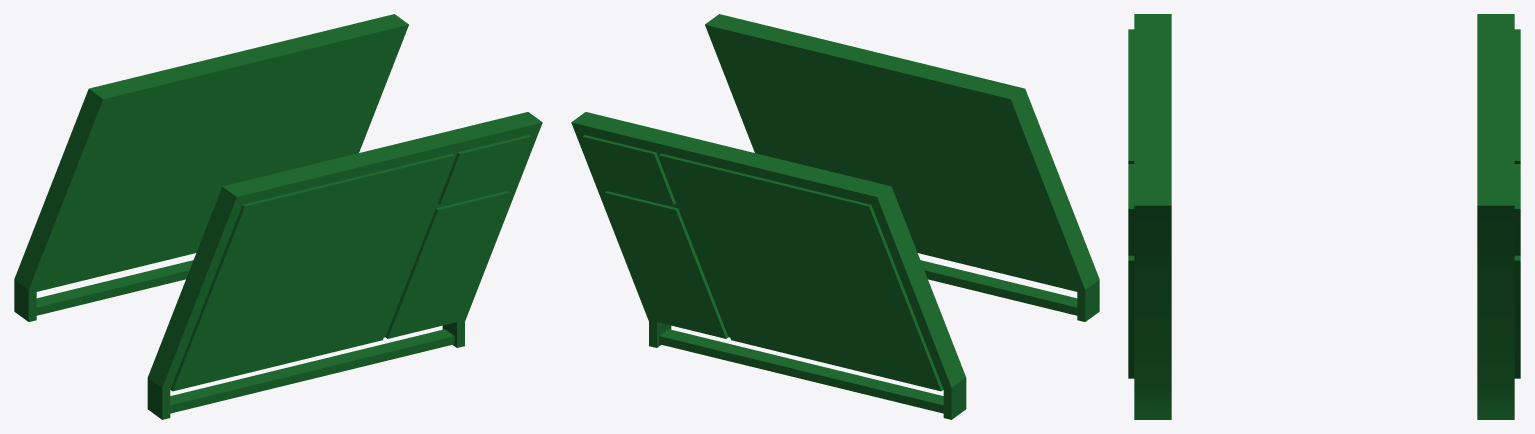
Rendered from SkyBridge_panel.fbx.
3 renders of one model, left to right at view 1: azimuth 30°, elevation 25°; view 2: azimuth 150°, elevation 25°; view 3: azimuth 270°, elevation 25°, orthographic. The views are drawn at different scales.
Visible parts, largest first — view 1: SkyBridge_panel; view 2: SkyBridge_panel; view 3: SkyBridge_panel.
Part boxes in pixels (x1=…): SkyBridge_panel: x1=14, y1=14, x2=542, y2=419; SkyBridge_panel: x1=571, y1=14, x2=1099, y2=419; SkyBridge_panel: x1=1128, y1=14, x2=1520, y2=419.
Bounding box in the file's own units: 738 × 379 × 513.
